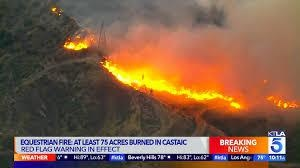fire: (97, 55, 247, 107), (61, 31, 94, 52), (265, 91, 300, 109)
